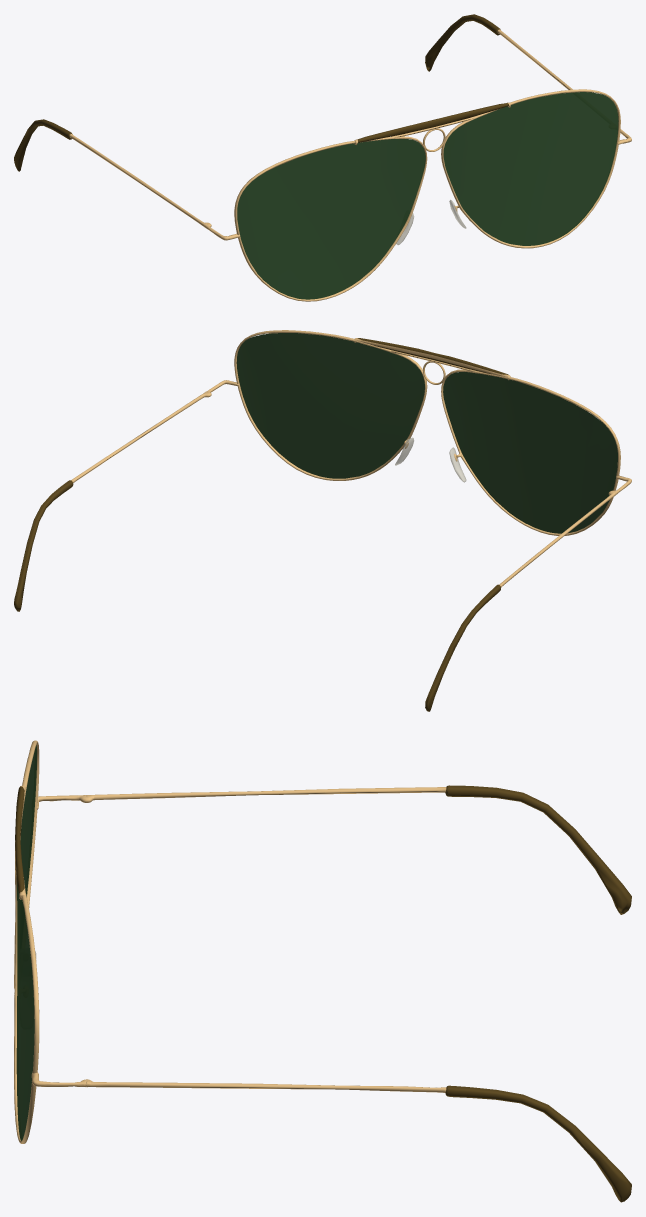
File: glasses3.glb
The picture shows the model from 3 angles, top to bottom: view 1: azimuth 30°, elevation 25°; view 2: azimuth 150°, elevation 25°; view 3: azimuth 270°, elevation 25°; orthographic projection. The views are drawn at different scales.
Visible parts, largest first — view 1: Cube.008_GreenGlasses2_0, Cube.006_Gold_0, Cube.003_YellowPlastic_0, Cube.009_Gold_0; view 2: Cube.008_GreenGlasses2_0, Cube.006_Gold_0, Cube.003_YellowPlastic_0, Cube.009_Gold_0, Cube.003_Gold_0; view 3: Cube.003_YellowPlastic_0, Cube.009_Gold_0, Cube.008_GreenGlasses2_0, Cube.006_Gold_0.
Boxes of the visible parts, x1=… form: Cube.008_GreenGlasses2_0: x1=237, y1=92, x2=618, y2=299; Cube.006_Gold_0: x1=234, y1=89, x2=620, y2=301; Cube.003_YellowPlastic_0: x1=14, y1=14, x2=508, y2=171; Cube.009_Gold_0: x1=69, y1=29, x2=631, y2=240; Cube.008_GreenGlasses2_0: x1=236, y1=333, x2=617, y2=533; Cube.006_Gold_0: x1=234, y1=330, x2=620, y2=535; Cube.003_YellowPlastic_0: x1=14, y1=338, x2=508, y2=711; Cube.009_Gold_0: x1=71, y1=380, x2=631, y2=587; Cube.003_Gold_0: x1=354, y1=338, x2=510, y2=380; Cube.003_YellowPlastic_0: x1=15, y1=785, x2=631, y2=1202; Cube.009_Gold_0: x1=31, y1=787, x2=446, y2=1092; Cube.008_GreenGlasses2_0: x1=16, y1=745, x2=36, y2=1140; Cube.006_Gold_0: x1=14, y1=740, x2=39, y2=1143.
Size of the model in its own units: 1.32 by 0.4516 by 1.13.
